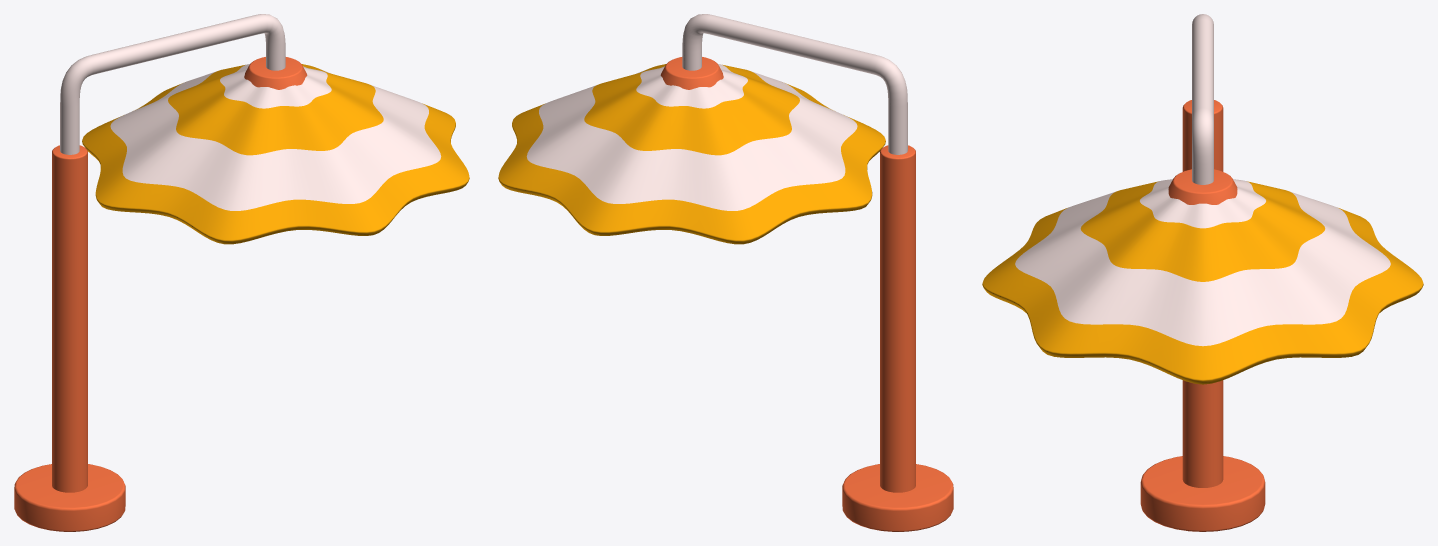
The model's file is Store_18_Umbrella_1.glb.
The picture shows the model from 3 angles, left to right: view 1: azimuth 30°, elevation 25°; view 2: azimuth 150°, elevation 25°; view 3: azimuth 270°, elevation 25°; orthographic projection. The views are drawn at different scales.
Visible parts, largest first — view 1: Store_18_Umbrella_1; view 2: Store_18_Umbrella_1; view 3: Store_18_Umbrella_1.
Boxes of the visible parts, left/top/right/bottom form: Store_18_Umbrella_1: left=14, top=14, right=469, bottom=531; Store_18_Umbrella_1: left=498, top=14, right=953, bottom=531; Store_18_Umbrella_1: left=982, top=14, right=1423, bottom=531.
Bounding box in the file's own units: 2.53 × 2.51 × 2.01.
Materials: 1 (1 with a texture image).
